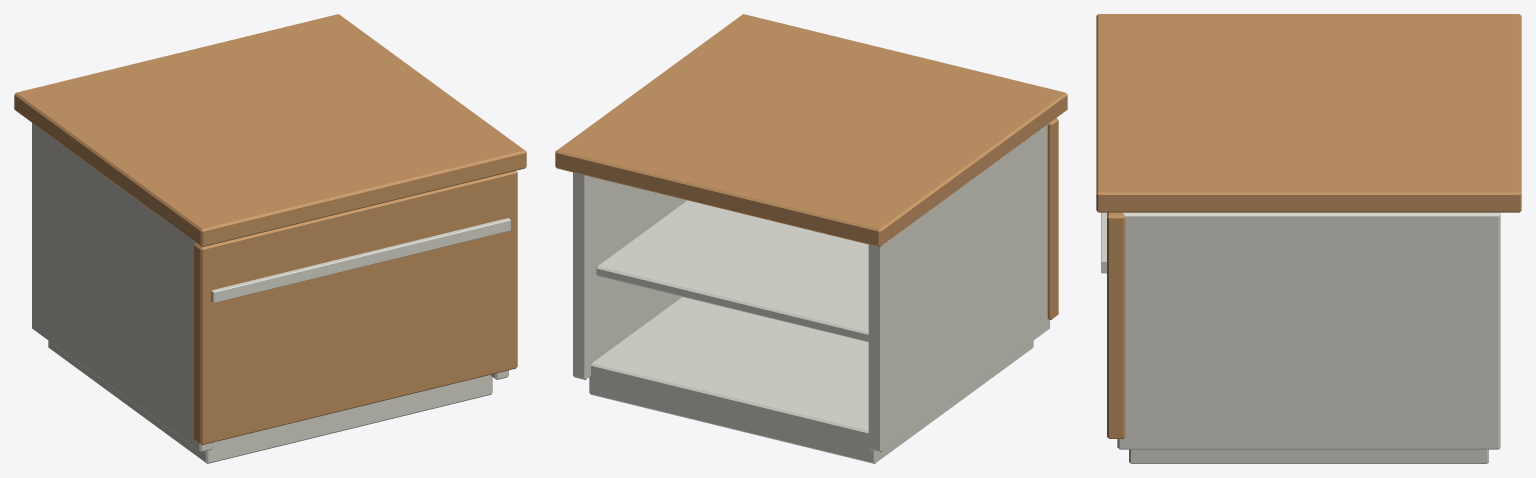
Rendered from admissions-counter-module.lod0.glb.
The picture shows the model from 3 angles, left to right: view 1: azimuth 30°, elevation 25°; view 2: azimuth 150°, elevation 25°; view 3: azimuth 270°, elevation 25°; orthographic projection. The views are drawn at different scales.
Visible parts, largest first — view 1: furniture-batch-EXPORT_interior-oak-veneer-0, furniture-batch-EXPORT_interior-matte-plaster-1; view 2: furniture-batch-EXPORT_interior-matte-plaster-1, furniture-batch-EXPORT_interior-oak-veneer-0; view 3: furniture-batch-EXPORT_interior-matte-plaster-1, furniture-batch-EXPORT_interior-oak-veneer-0.
Part boxes in pixels (x1=…): furniture-batch-EXPORT_interior-oak-veneer-0: x1=14, y1=14, x2=526, y2=444; furniture-batch-EXPORT_interior-matte-plaster-1: x1=32, y1=123, x2=510, y2=463; furniture-batch-EXPORT_interior-matte-plaster-1: x1=573, y1=124, x2=1049, y2=463; furniture-batch-EXPORT_interior-oak-veneer-0: x1=555, y1=14, x2=1067, y2=320; furniture-batch-EXPORT_interior-matte-plaster-1: x1=1101, y1=212, x2=1500, y2=463; furniture-batch-EXPORT_interior-oak-veneer-0: x1=1096, y1=14, x2=1521, y2=438.
Size of the model in its own units: 1.5 by 1.1 by 1.5.
